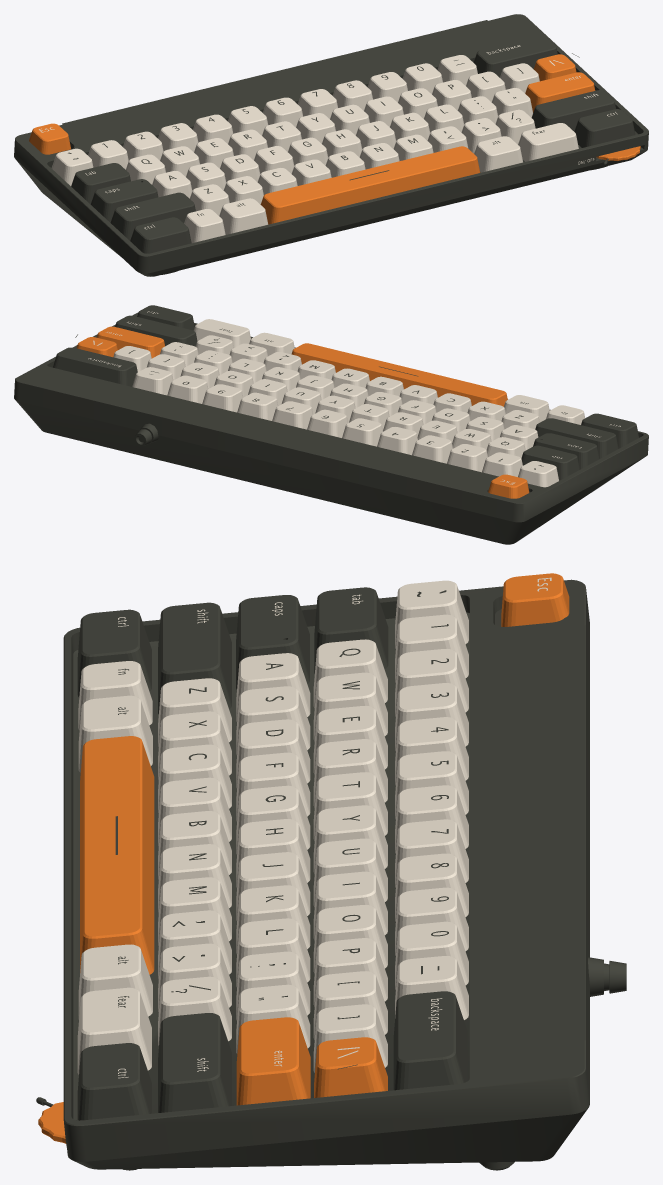
File: Keyboard.fbx
3 views of the same model, one above another, from view 1: azimuth 30°, elevation 25°; view 2: azimuth 150°, elevation 25°; view 3: azimuth 270°, elevation 25° (orthographic). The views are drawn at different scales.
Visible parts, largest first — view 1: Cube.040, Cube.130, Cube.069, Cube.070, Cube.074, Cube.076, Cube.082, Cube.083, Cube.080, Cube.071, Cube.075, Cube.072 (+50 smaller); view 2: Cube.040, Cube.130, Cube.069, Cube.076, Cube.070, Cube.074, Cube.071, Cube.072, Cube.075, Cube.080, Cube.083, Cube.126 (+50 smaller); view 3: Cube.040, Cube.130, Cube.069, Cube.074, Cube.076, Cube.075, Cube.070, Cube.082, Cube.071, Cube.083, Cube.072, Cube.080 (+51 smaller).
Boxes of the visible parts, bbox=[...] form: Cube.040: bbox=[14, 14, 648, 276]; Cube.130: bbox=[62, 20, 507, 143]; Cube.069: bbox=[260, 146, 480, 224]; Cube.070: bbox=[110, 192, 195, 240]; Cube.074: bbox=[531, 90, 615, 131]; Cube.076: bbox=[473, 35, 557, 77]; Cube.082: bbox=[574, 109, 635, 147]; Cube.083: bbox=[518, 123, 578, 161]; Cube.080: bbox=[130, 217, 191, 253]; Cube.071: bbox=[90, 179, 158, 222]; Cube.075: bbox=[525, 72, 595, 112]; Cube.072: bbox=[71, 163, 130, 204]; Cube.040: bbox=[14, 312, 648, 544]; Cube.130: bbox=[47, 376, 492, 491]; Cube.069: bbox=[291, 343, 507, 406]; Cube.076: bbox=[53, 347, 137, 386]; Cube.070: bbox=[535, 418, 618, 458]; Cube.074: bbox=[115, 315, 197, 346]; Cube.071: bbox=[533, 433, 599, 469]; Cube.072: bbox=[521, 445, 579, 480]; Cube.075: bbox=[96, 326, 164, 358]; Cube.080: bbox=[581, 413, 638, 448]; Cube.083: bbox=[193, 319, 250, 347]; Cube.126: bbox=[237, 392, 278, 420]; Cube.040: bbox=[63, 579, 626, 1170]; Cube.130: bbox=[496, 625, 585, 1047]; Cube.069: bbox=[80, 736, 154, 974]; Cube.074: bbox=[158, 1013, 231, 1112]; Cube.076: bbox=[393, 991, 467, 1090]; Cube.075: bbox=[236, 1017, 310, 1105]; Cube.070: bbox=[158, 602, 231, 714]; Cube.082: bbox=[77, 1043, 151, 1120]; Cube.071: bbox=[236, 595, 309, 689]; Cube.083: bbox=[77, 987, 151, 1074]; Cube.072: bbox=[314, 587, 388, 673]; Cube.080: bbox=[77, 609, 151, 697].
Size of the model in its own units: 931 by 1859 by 242.
